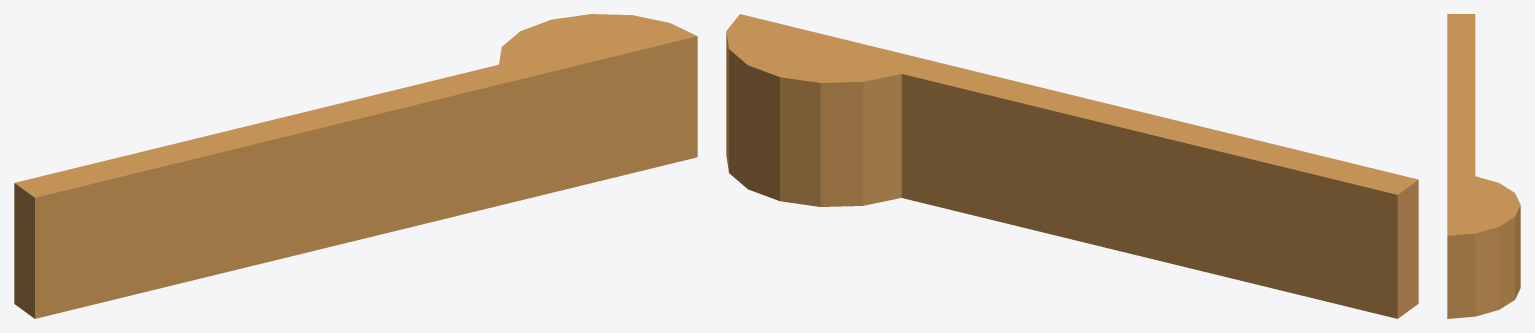
Rendered from 速食店.fbx_door_bolts.fbx.
The picture shows the model from 3 angles, left to right: view 1: azimuth 30°, elevation 25°; view 2: azimuth 150°, elevation 25°; view 3: azimuth 270°, elevation 25°; orthographic projection. The views are drawn at different scales.
Parts seen in each view (by area): view 1: door bolt L.001; view 2: door bolt L.001; view 3: door bolt L.001.
Part boxes in pixels (x1,y1,x2,y2): door bolt L.001: (14, 14, 697, 318); door bolt L.001: (726, 14, 1418, 318); door bolt L.001: (1447, 14, 1520, 318).
Bounding box in the file's own units: 114 × 20 × 16.
